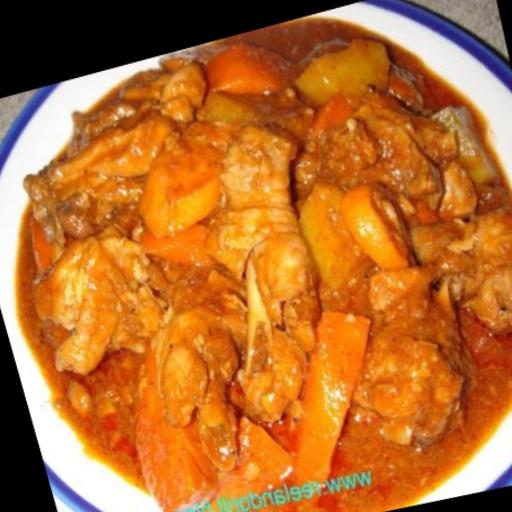pork caldereta: (20, 13, 511, 500)
